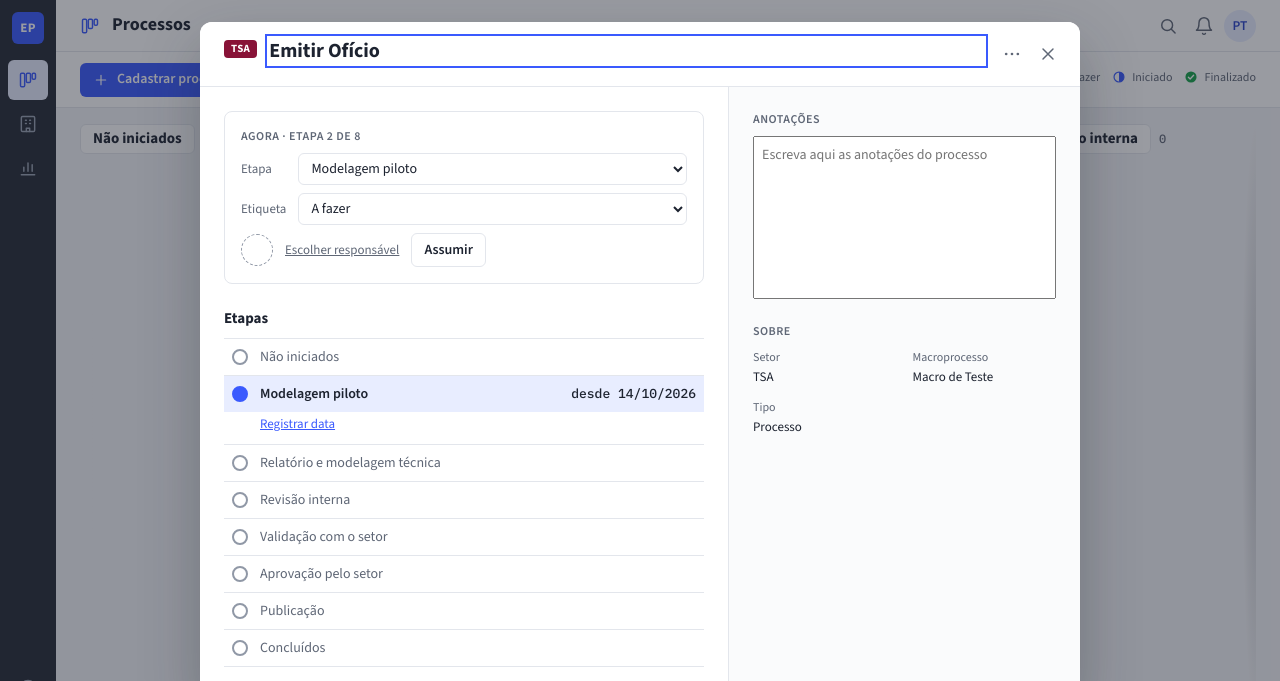
Test: registrar: [Registrar data] abre o campo sem [Remover]; [Salvar] grava e volta à linha, sem mexer na etapa
Click the button "Registrar data": (298, 424) top-left (260, 412), bottom-right (335, 436)
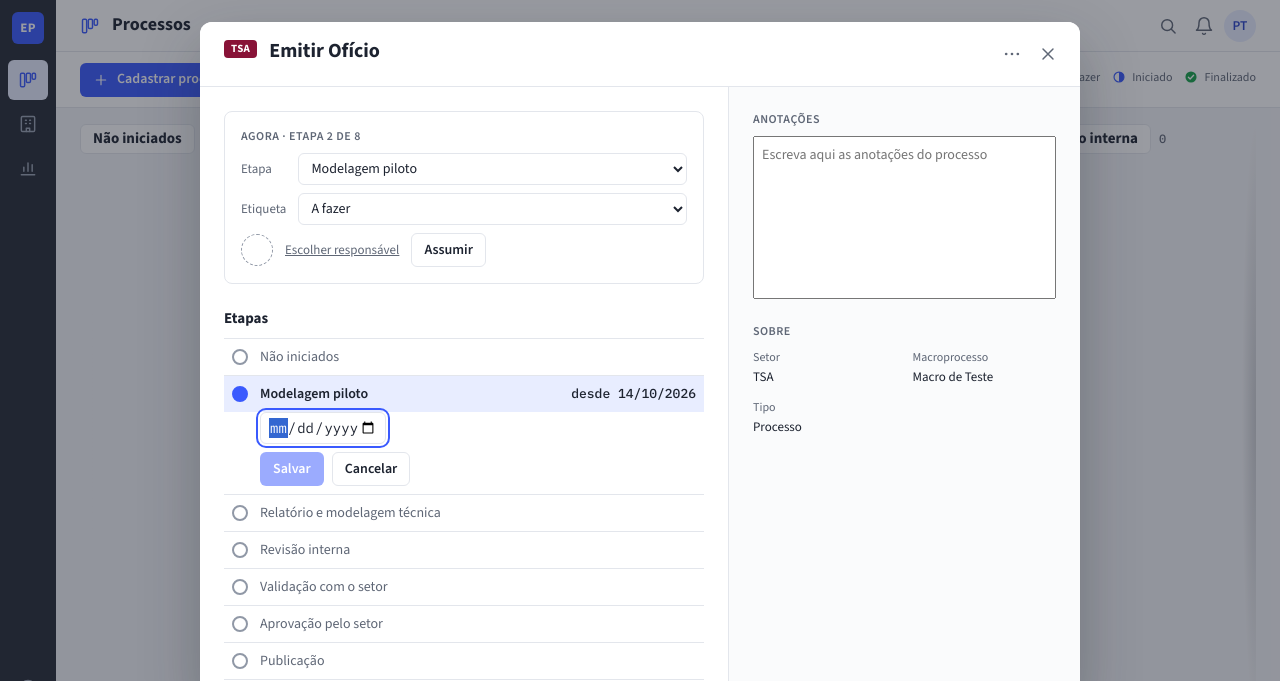
In the date field named "Data da modelagem piloto": (323, 428) top-left (260, 412), bottom-right (386, 444), type "2026-10-10"
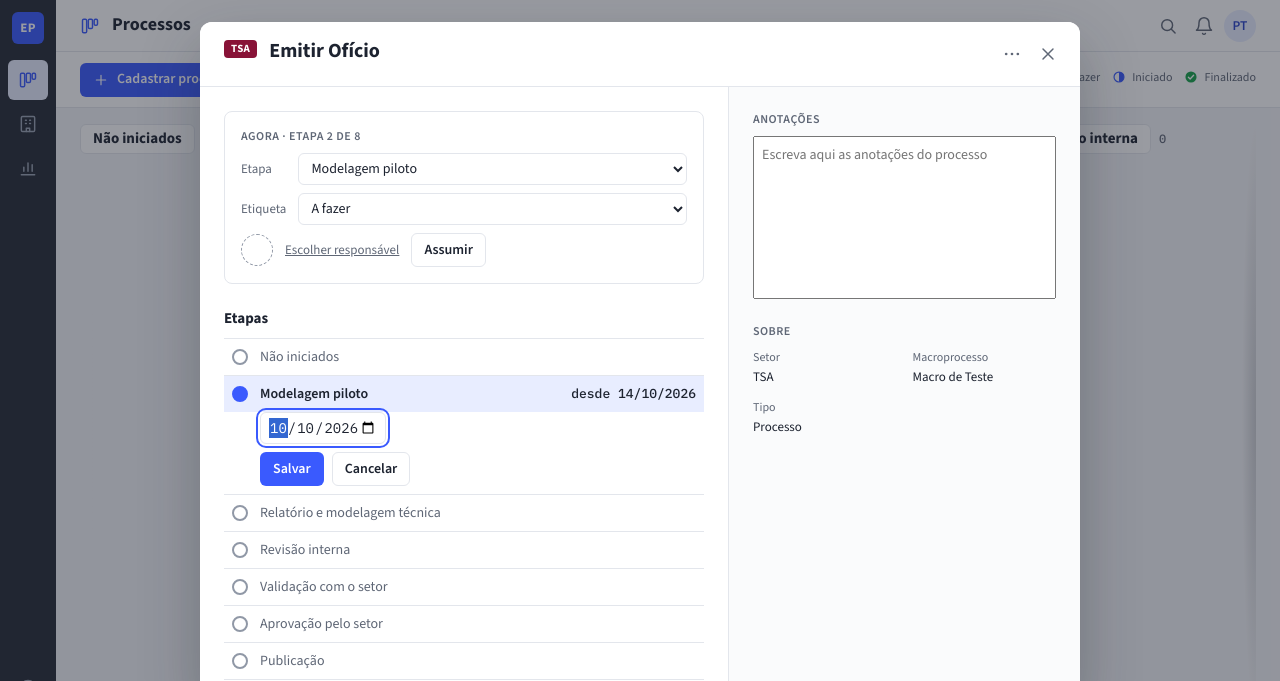
Click the button "Salvar": (292, 469) top-left (260, 452), bottom-right (324, 486)
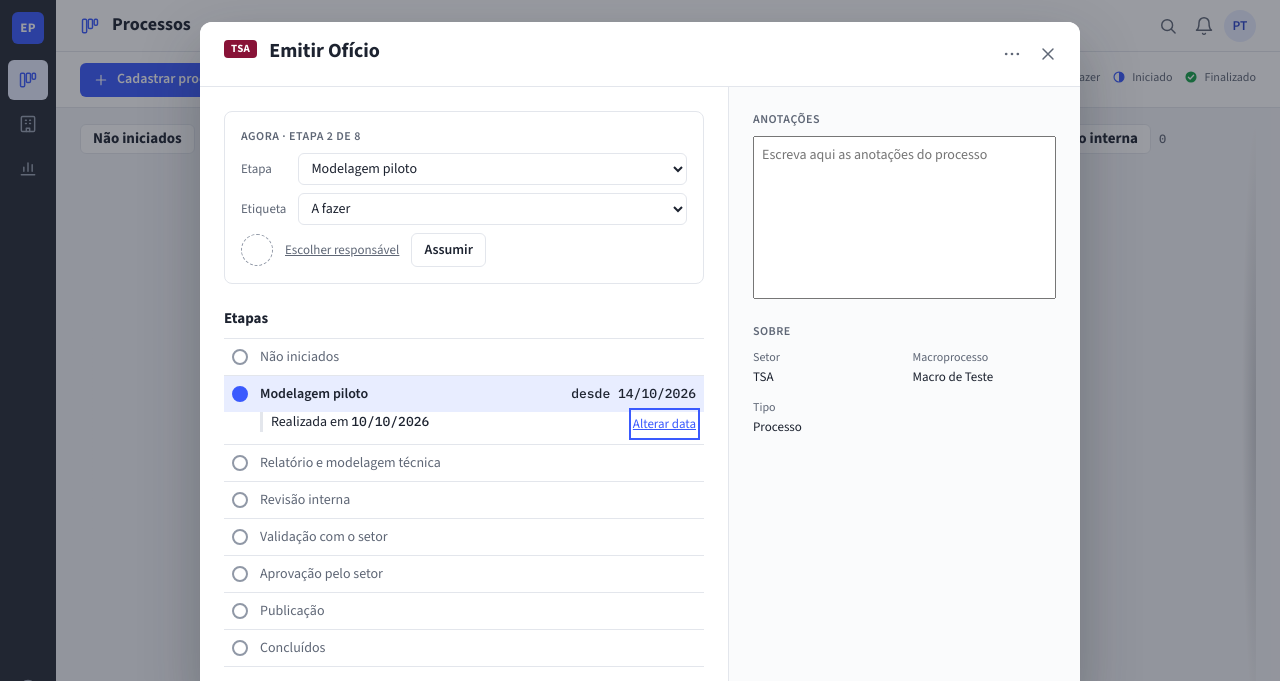
Expected: the text "Realizada em 10/10/2026" is shown, top-left (260, 412), bottom-right (429, 432)
